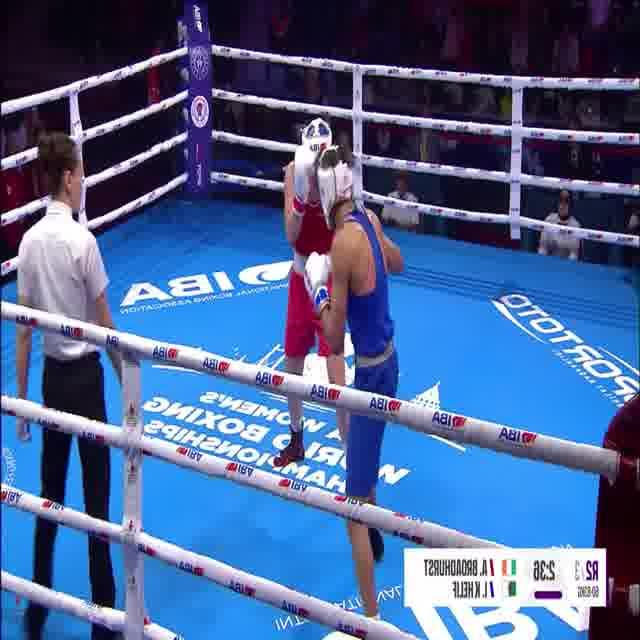blue-player: (304, 147, 408, 640)
red-player: (271, 116, 363, 470)
referee: (0, 128, 146, 640)
